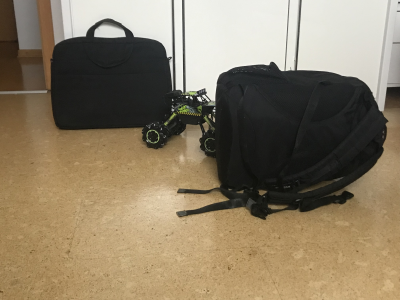remote control car: (140, 84, 226, 159)
